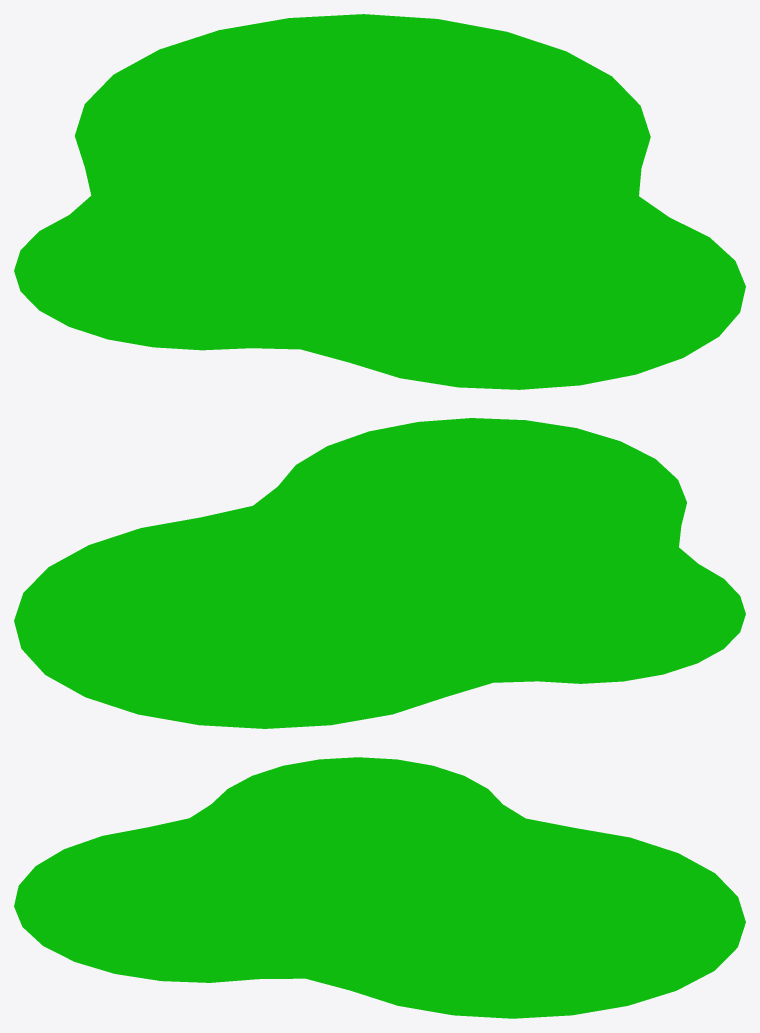
Rendered from Template Bottom.fbx.
3 renders of one model, top to bottom at view 1: azimuth 30°, elevation 25°; view 2: azimuth 150°, elevation 25°; view 3: azimuth 270°, elevation 25°, orthographic. The views are drawn at different scales.
Visible parts, largest first — view 1: BottomLandscape; view 2: BottomLandscape; view 3: BottomLandscape.
Boxes of the visible parts, x1,y1,x2,y2 form: BottomLandscape: [14, 14, 745, 389]; BottomLandscape: [14, 418, 745, 728]; BottomLandscape: [14, 757, 745, 1018].
Bounding box in the file's own units: 326 × 6.29e-05 × 386.
